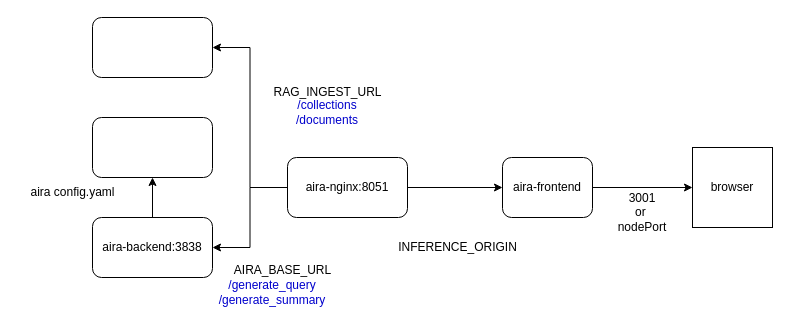
Some shapes in this 790 by 325 pixel diagram are drawn without their labels. Each missing label, with the box of its shape:
ingestor-server:8082: (92, 16, 212, 78)
rag-server:8081: (92, 116, 212, 178)
